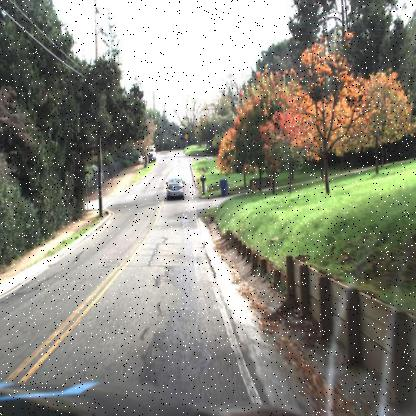car: (160, 173, 189, 210), (145, 143, 158, 163)
truck: (147, 144, 156, 163)
